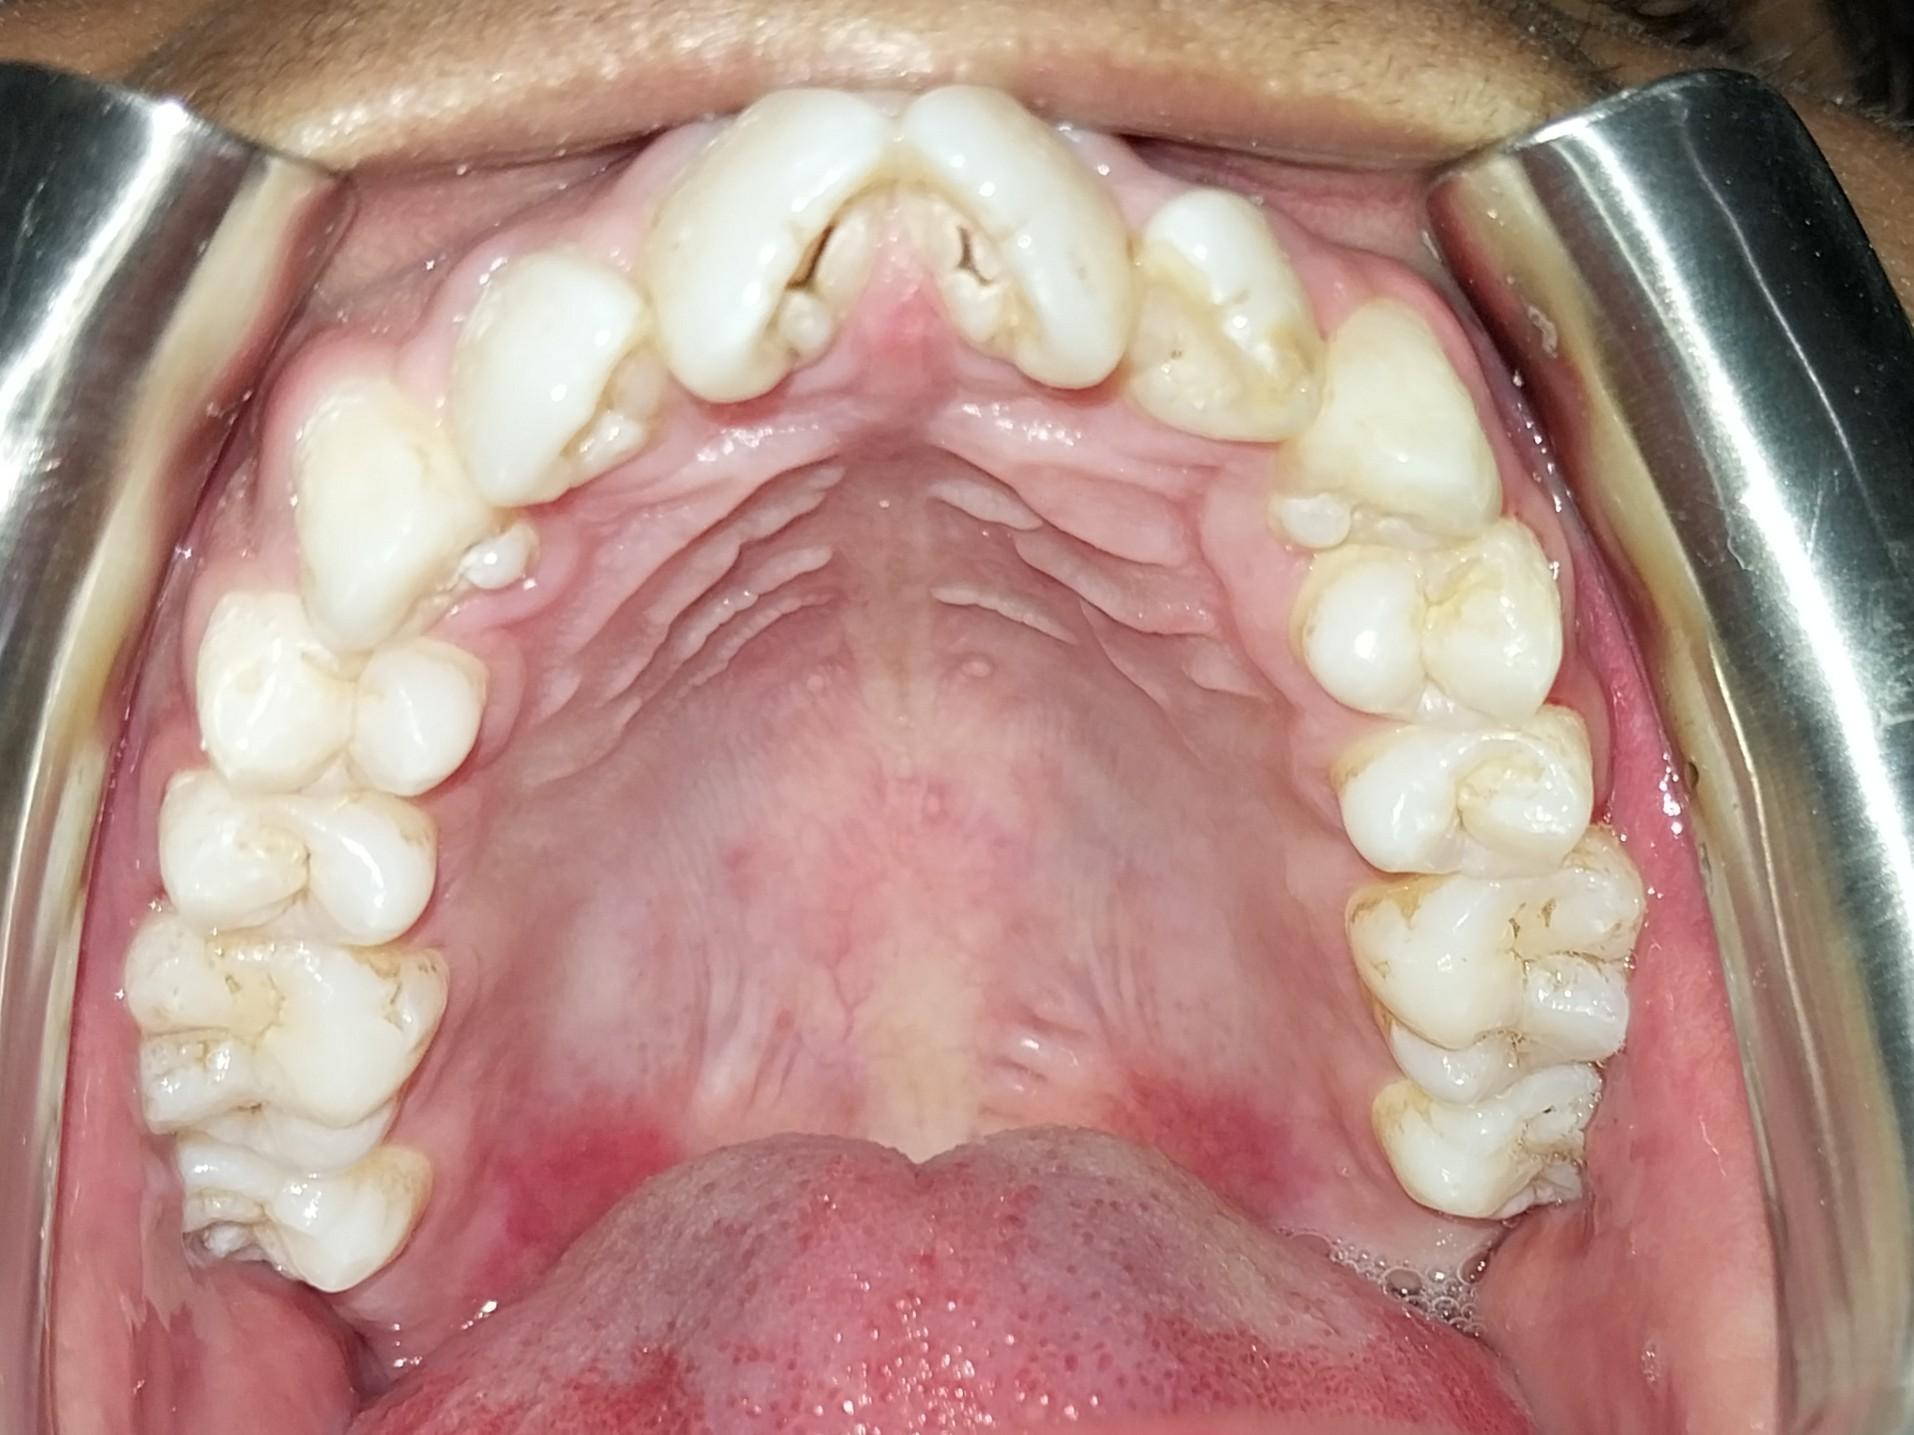D: (900, 78, 1137, 424), (659, 88, 893, 417)
